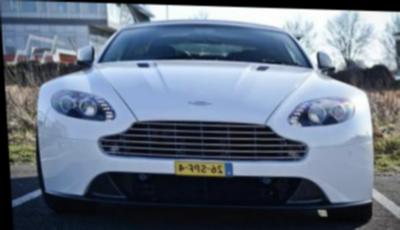License_Plate: (168, 156, 236, 181)
